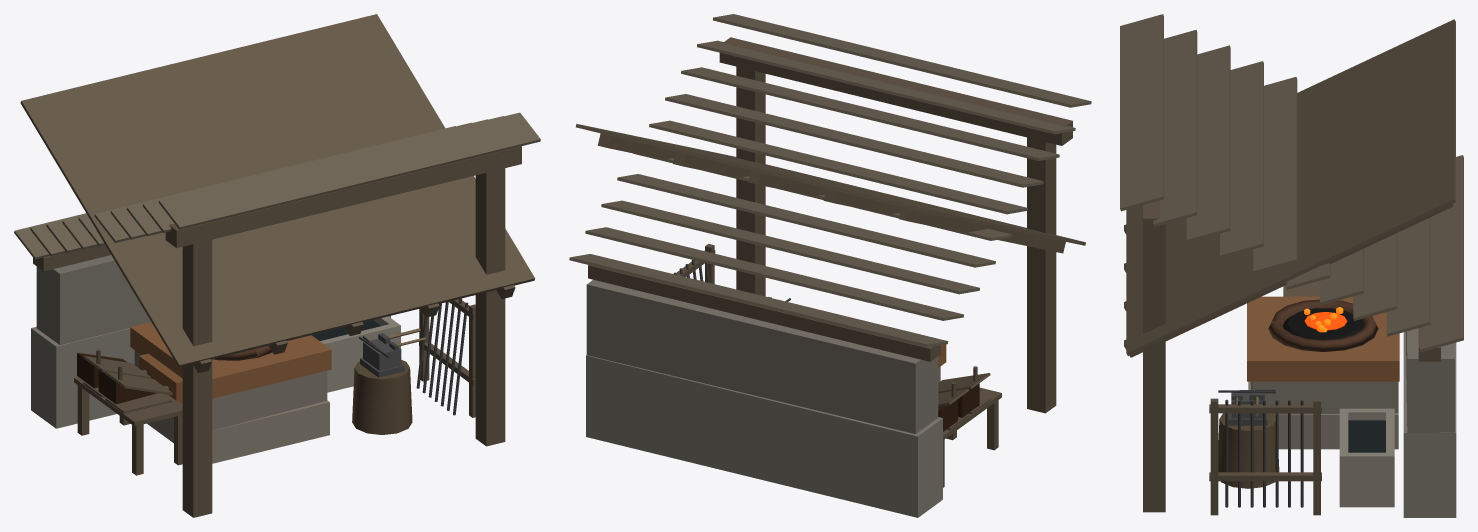
The model's file is smithy-1000.glb.
3 views of the same model, side by side, from view 1: azimuth 30°, elevation 25°; view 2: azimuth 150°, elevation 25°; view 3: azimuth 270°, elevation 25° (orthographic). The views are drawn at different scales.
Visible parts, largest first — view 1: roof-deck, roof-shingles.10, post-front-right, post-front-left, back-wall-upper, plate-front, back-wall-lower, hearth-clay-top, hearth-course-1, hearth-course-2, anvil-stump, trough-walls (+16 smaller); view 2: back-wall-lower, back-wall-upper, post-front-left, plate-front, plate-back, shingle-course-01, roof-shingles.03, roof-shingles.07, roof-shingles.02, roof-shingles.04, roof-shingles.06, roof-shingles.08 (+10 smaller); view 3: roof-deck, roof-shingles.10, hearth-clay-top, roof-shingles.08, roof-shingles.06, roof-shingles.07, roof-shingles.09, post-front-right, shingle-course-01, back-wall-lower, trough-walls, back-wall-upper (+19 smaller).
Part boxes in pixels (left/top/right/bottom): roof-deck: left=20, top=14, right=534, bottom=367; roof-shingles.10: left=158, top=112, right=540, bottom=229; post-front-right: left=475, top=168, right=505, bottom=446; post-front-left: left=182, top=240, right=212, bottom=517; back-wall-upper: left=36, top=255, right=150, bottom=344; plate-front: left=165, top=146, right=521, bottom=248; back-wall-lower: left=31, top=316, right=390, bottom=428; hearth-clay-top: left=130, top=322, right=331, bottom=398; hearth-course-1: left=147, top=400, right=329, bottom=463; hearth-course-2: left=134, top=350, right=327, bottom=430; anvil-stump: left=352, top=360, right=412, bottom=434; trough-walls: left=320, top=316, right=400, bottom=391; back-wall-lower: left=586, top=355, right=942, bottom=517; back-wall-upper: left=586, top=279, right=938, bottom=434; post-front-left: left=1027, top=137, right=1056, bottom=413; plate-front: left=719, top=37, right=1072, bottom=145; plate-back: left=588, top=265, right=940, bottom=361; shingle-course-01: left=569, top=254, right=948, bottom=347; roof-shingles.03: left=601, top=200, right=979, bottom=294; roof-shingles.07: left=665, top=94, right=1043, bottom=187; roof-shingles.02: left=585, top=227, right=963, bottom=320; roof-shingles.04: left=617, top=174, right=995, bottom=267; roof-shingles.06: left=649, top=120, right=1027, bottom=214; roof-shingles.08: left=681, top=67, right=1059, bottom=160; roof-deck: left=1126, top=19, right=1455, bottom=355; roof-shingles.10: left=1120, top=14, right=1163, bottom=211; hearth-clay-top: left=1247, top=296, right=1399, bottom=381; roof-shingles.08: left=1186, top=45, right=1230, bottom=242; roof-shingles.06: left=1253, top=77, right=1297, bottom=273; roof-shingles.07: left=1220, top=61, right=1263, bottom=258; roof-shingles.09: left=1153, top=29, right=1197, bottom=226; post-front-right: left=1143, top=237, right=1165, bottom=512; shingle-course-01: left=1420, top=155, right=1463, bottom=352; back-wall-lower: left=1403, top=331, right=1456, bottom=517; trough-walls: left=1339, top=408, right=1394, bottom=507; back-wall-upper: left=1406, top=328, right=1454, bottom=432.
Bounding box in the file's own units: 3.45 × 2.89 × 2.75.
